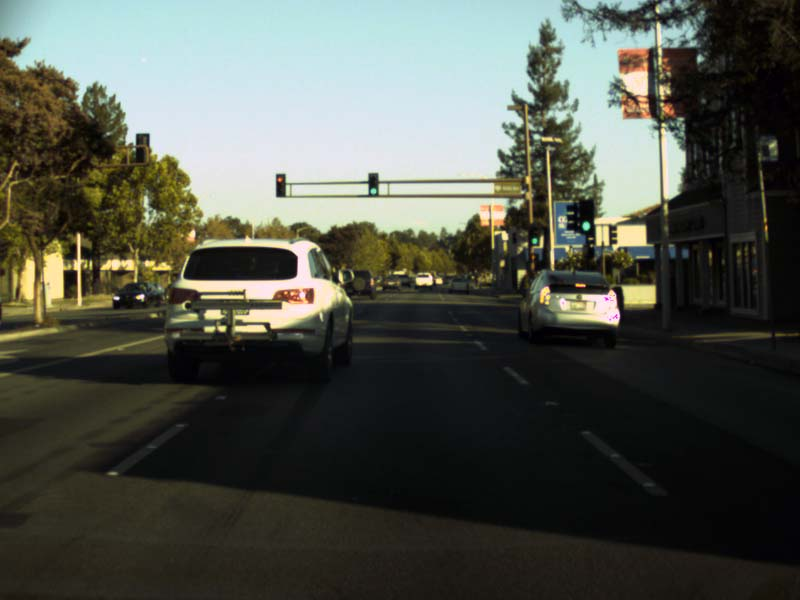Green: (579, 200, 593, 233), (368, 173, 378, 195), (529, 224, 538, 245)
Red: (275, 174, 285, 196)
